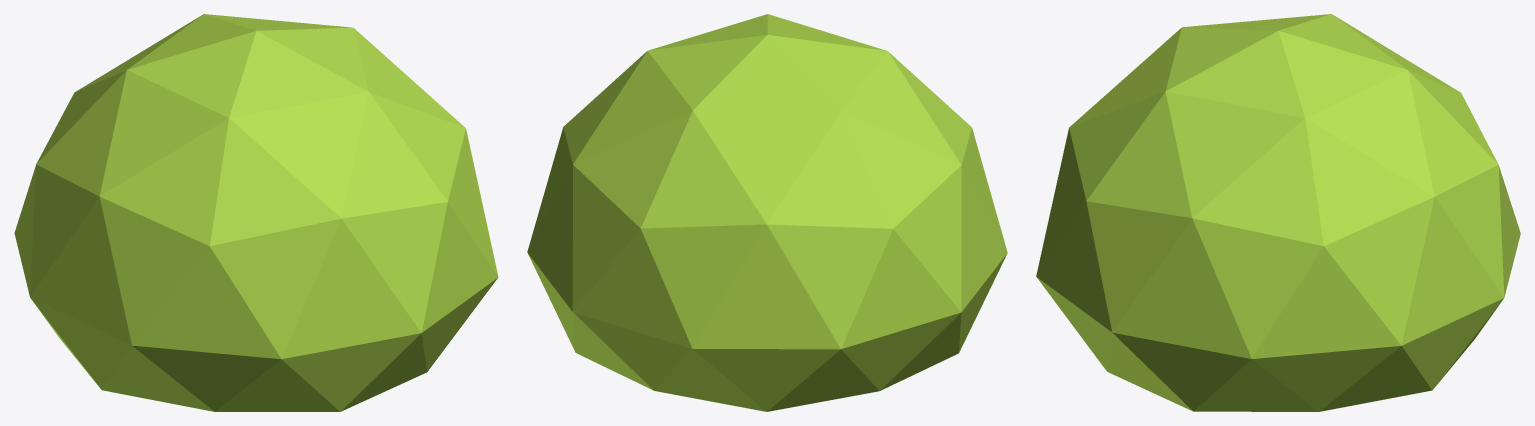
File: ENV_Bush01_Placeholder02.fbx
The picture shows the model from 3 angles, left to right: view 1: azimuth 30°, elevation 25°; view 2: azimuth 150°, elevation 25°; view 3: azimuth 270°, elevation 25°; orthographic projection. The views are drawn at different scales.
Visible parts, largest first — view 1: Icosphere; view 2: Icosphere; view 3: Icosphere.
Boxes of the visible parts, <box> form: Icosphere: <box>14,14,498,411</box>; Icosphere: <box>527,14,1007,411</box>; Icosphere: <box>1036,14,1520,411</box>.
Size of the model in its own units: 196 by 199 by 134.
